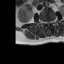CCS_normal: (47, 19, 49, 28)
LFS_normal: (51, 18, 53, 25)
LLS_normal: (49, 19, 51, 26)
RFS_normal: (43, 18, 45, 25)
RLS_normal: (45, 19, 47, 25)
